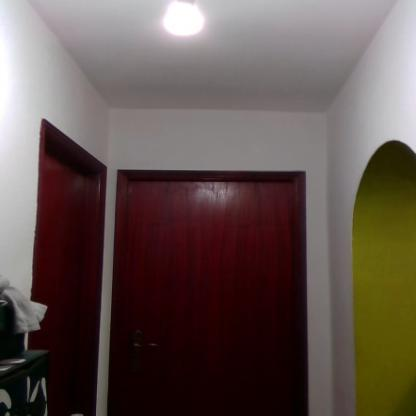door: (120, 180, 307, 416), (40, 150, 96, 415)
lever: (129, 340, 161, 350)
